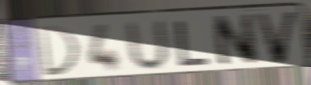4: (86, 21, 125, 74)
D: (36, 24, 82, 78)
L: (174, 19, 211, 68)
N: (211, 12, 259, 69)
U: (126, 18, 171, 73)
V: (252, 9, 302, 66)
